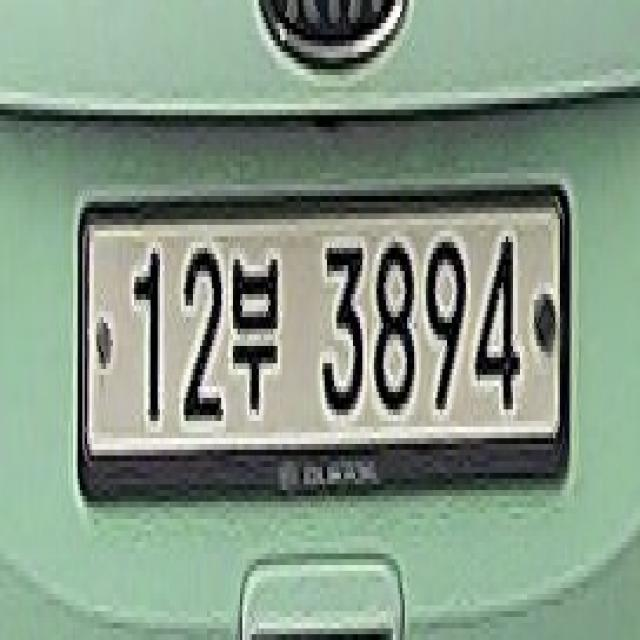1: (130, 231, 174, 444)
2: (172, 236, 228, 438)
3: (318, 236, 367, 421)
4: (478, 230, 524, 427)
8: (372, 236, 419, 427)
9: (421, 231, 471, 421)
bu: (228, 248, 285, 432)
license_plate: (71, 173, 578, 507)
